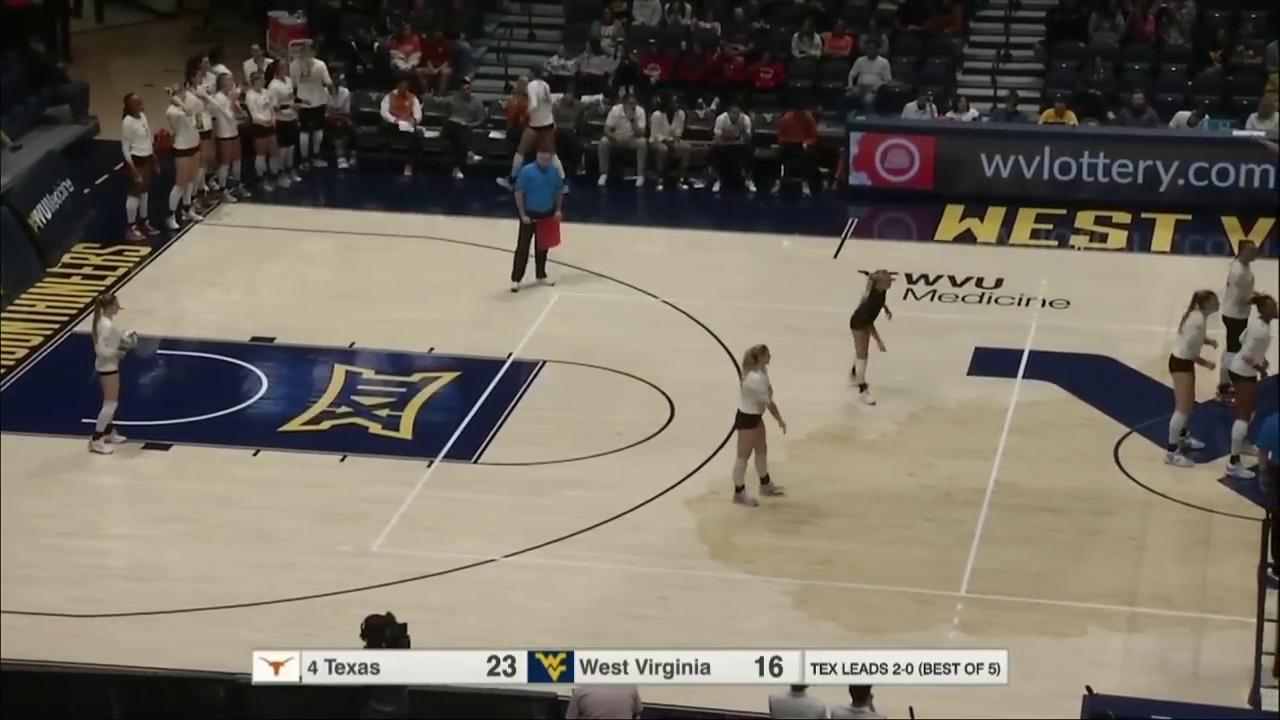player: (728, 340, 790, 507), (1162, 282, 1219, 463), (1229, 290, 1279, 478), (85, 295, 140, 453), (843, 266, 895, 405), (1217, 233, 1259, 404)
refree: (507, 149, 562, 293)
